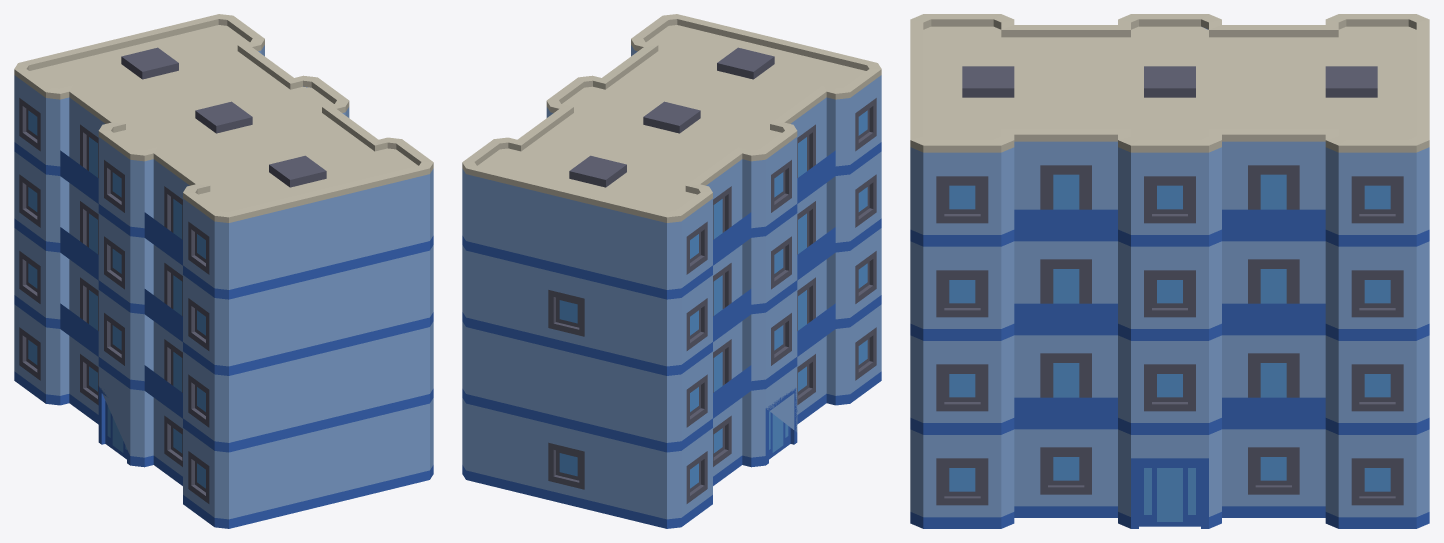
3 views of the same model, side by side, from view 1: azimuth 30°, elevation 25°; view 2: azimuth 150°, elevation 25°; view 3: azimuth 270°, elevation 25° (orthographic). The views are drawn at different scales.
Parts seen in each view (by area): view 1: predio 4.001; view 2: predio 4.001; view 3: predio 4.001.
Boxes of the visible parts, left/top/right/bottom form: predio 4.001: left=14, top=14, right=433, bottom=528; predio 4.001: left=462, top=14, right=881, bottom=528; predio 4.001: left=910, top=14, right=1429, bottom=528.
Size of the model in its own units: 5589 by 7638 by 9315.
